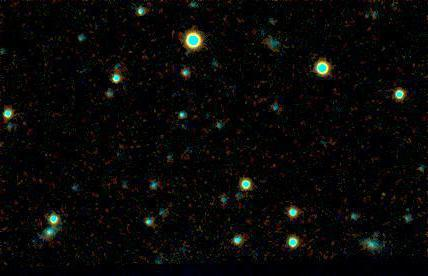star: (372, 183, 402, 213)
